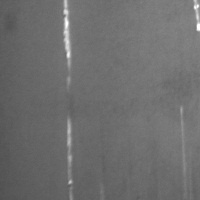scratches: (62, 115, 77, 200), (59, 1, 74, 81)
